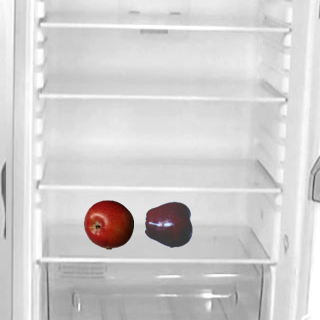Apple Braeburn: (83, 199, 133, 249)
Apple Red Delicious: (144, 199, 194, 249)
